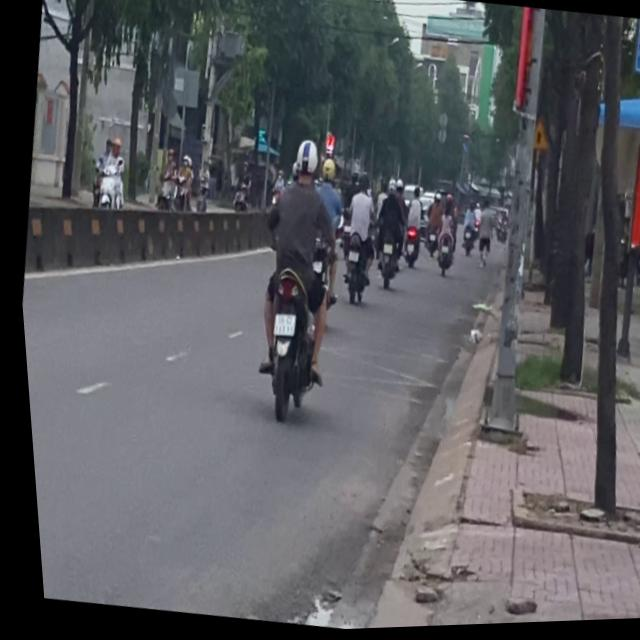helmet: (285, 137, 318, 185)
licenseplate: (226, 131, 357, 427)
nohelmet: (266, 313, 291, 339)
